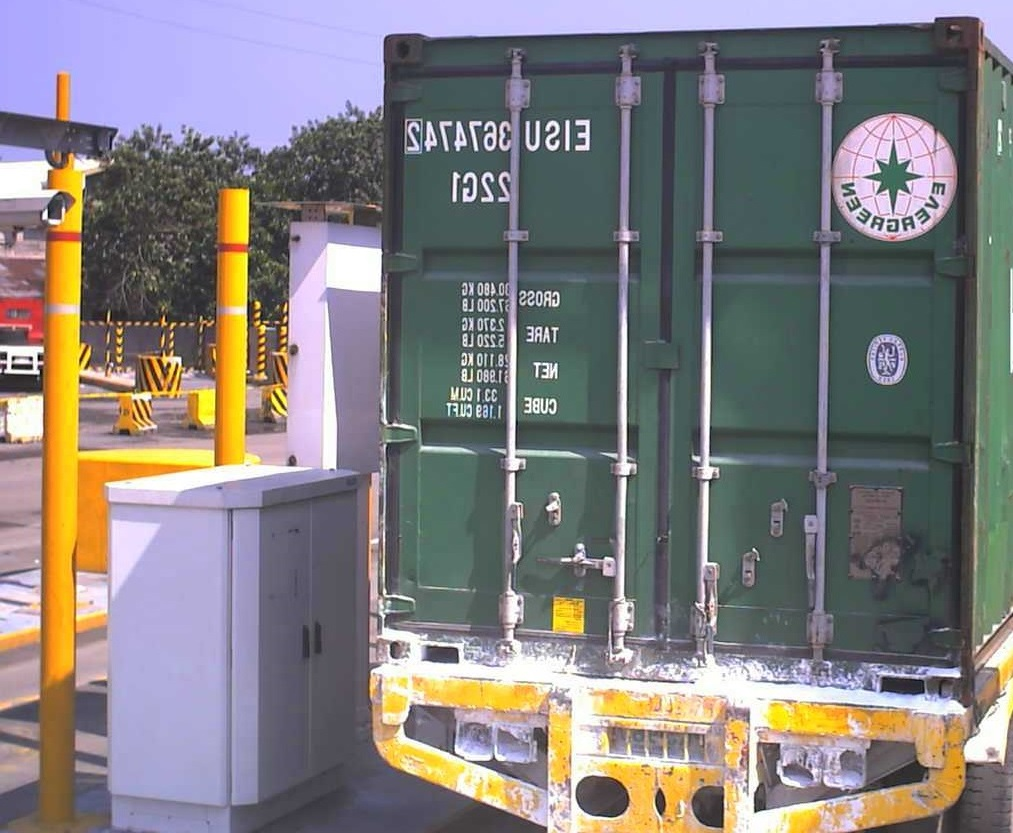container_door: (378, 19, 981, 710)
